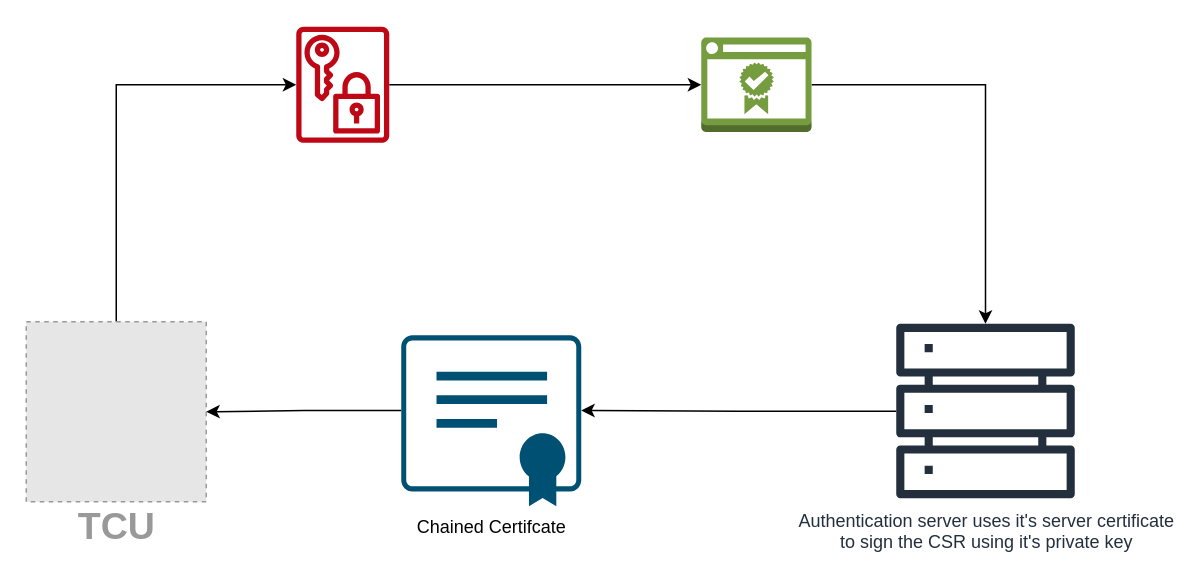
This 1199x579 diagram has some shape labels left out. Grey dashed boxes stand in for pictures. The centre of each missing label's shape, as x and y in pixels:
"Generate CSR" goes at (x=756, y=84).
"Generate public/private keys" goes at (x=342, y=84).
